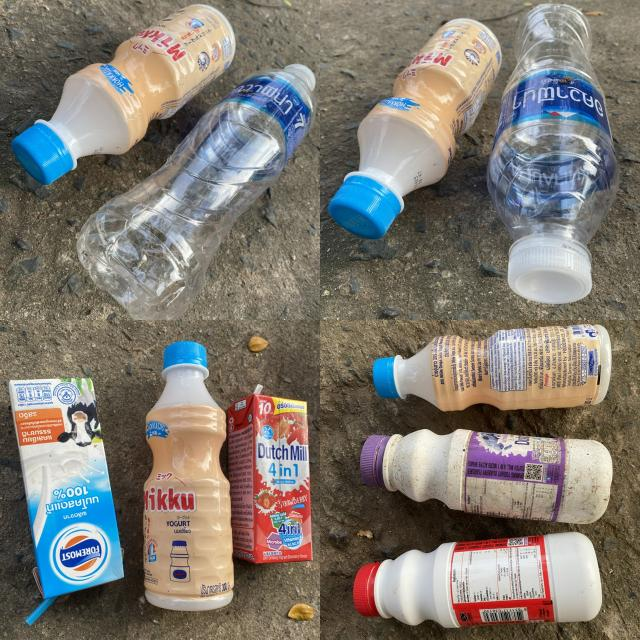plastik: (78, 64, 315, 320), (11, 5, 235, 184), (488, 4, 619, 304), (329, 19, 501, 238), (9, 379, 124, 622), (144, 341, 234, 611), (361, 429, 612, 524), (354, 532, 601, 628), (374, 324, 611, 411), (228, 394, 312, 562)
